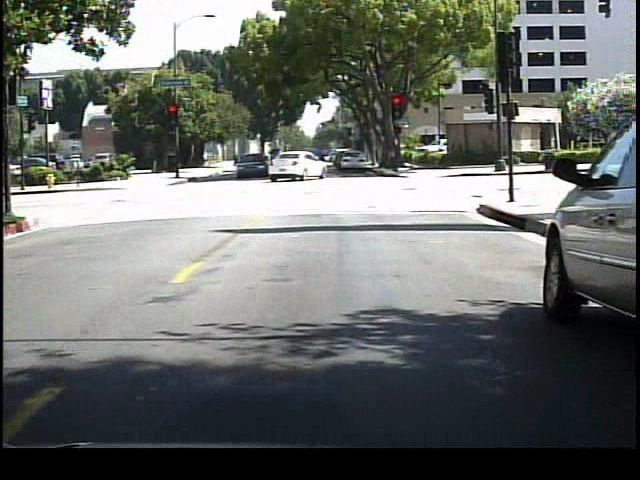person: (312, 144, 328, 179)
